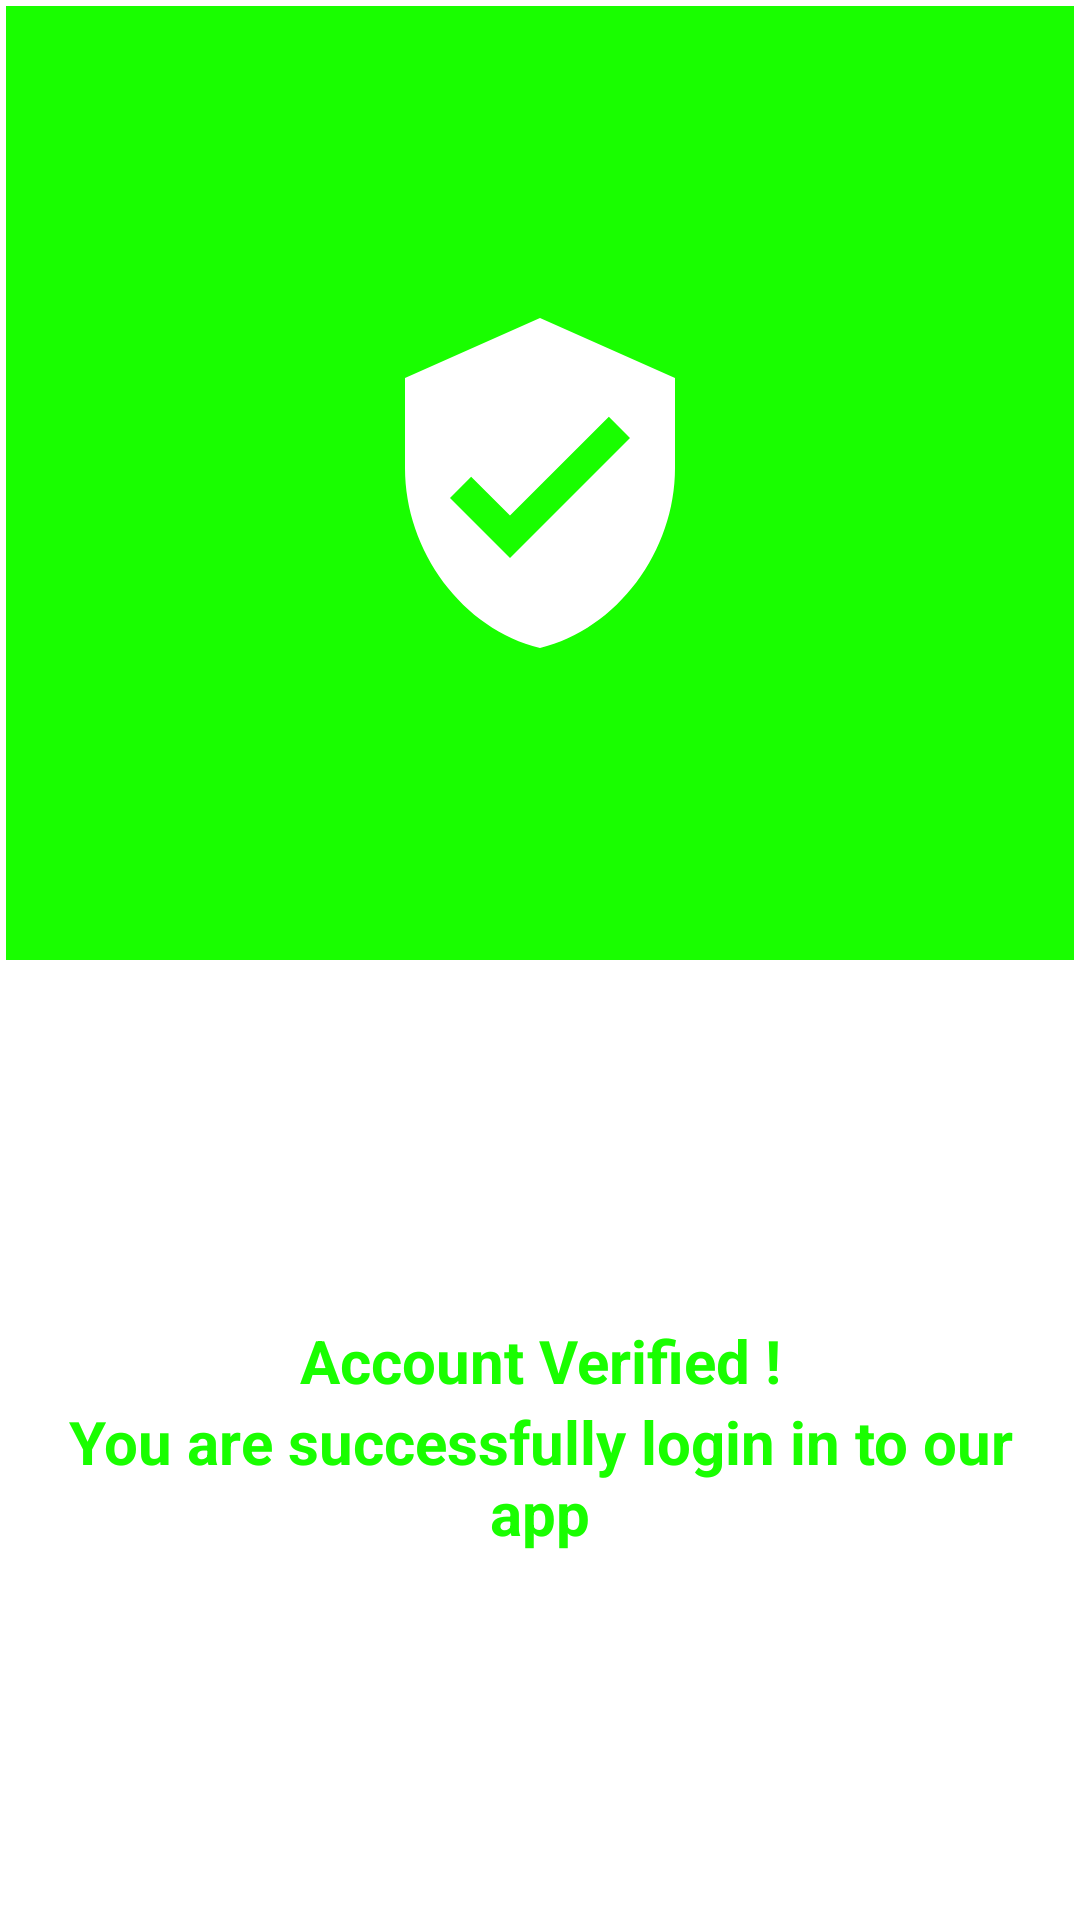

Screen size 1080x1920. Icon name, then its box in pixels as (x1, y1, x2, y2):
verified user: (405, 318, 675, 648)
